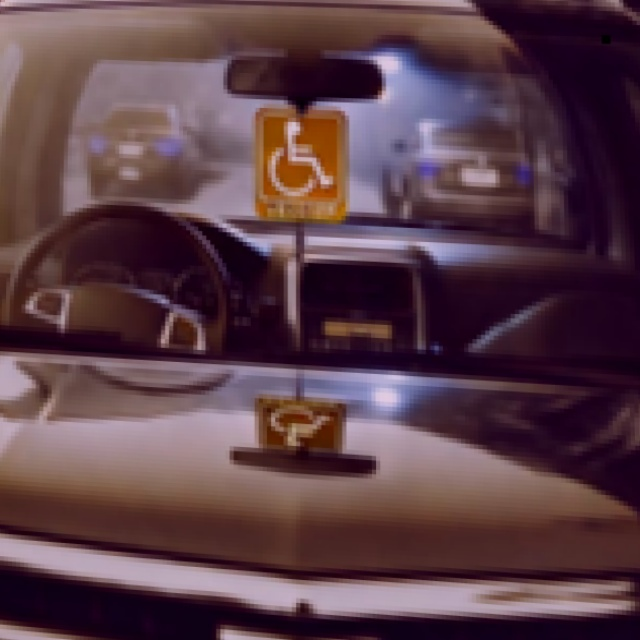ISA: (268, 114, 335, 197), (265, 401, 338, 450)
